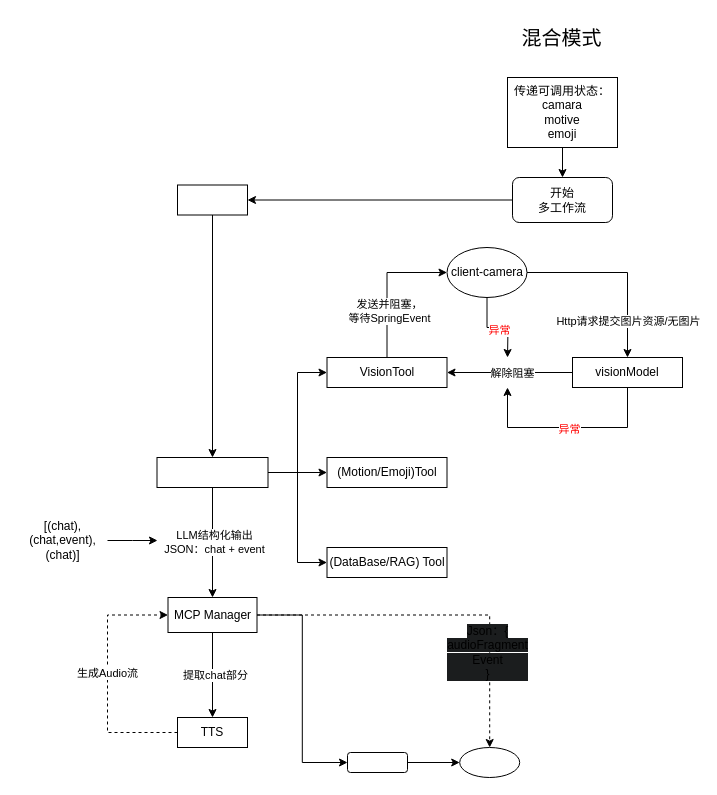
The diagram is 717 pixels wide and 795 high, and some of its shapes have lost their labels. Here are the shapes that lost their labels. From the top down, the centre of each, then its label:
At point (212, 199): "STT".
At point (212, 472): "LLM-Mix".
At point (377, 762): "EOF".
At point (489, 762): "Client".
